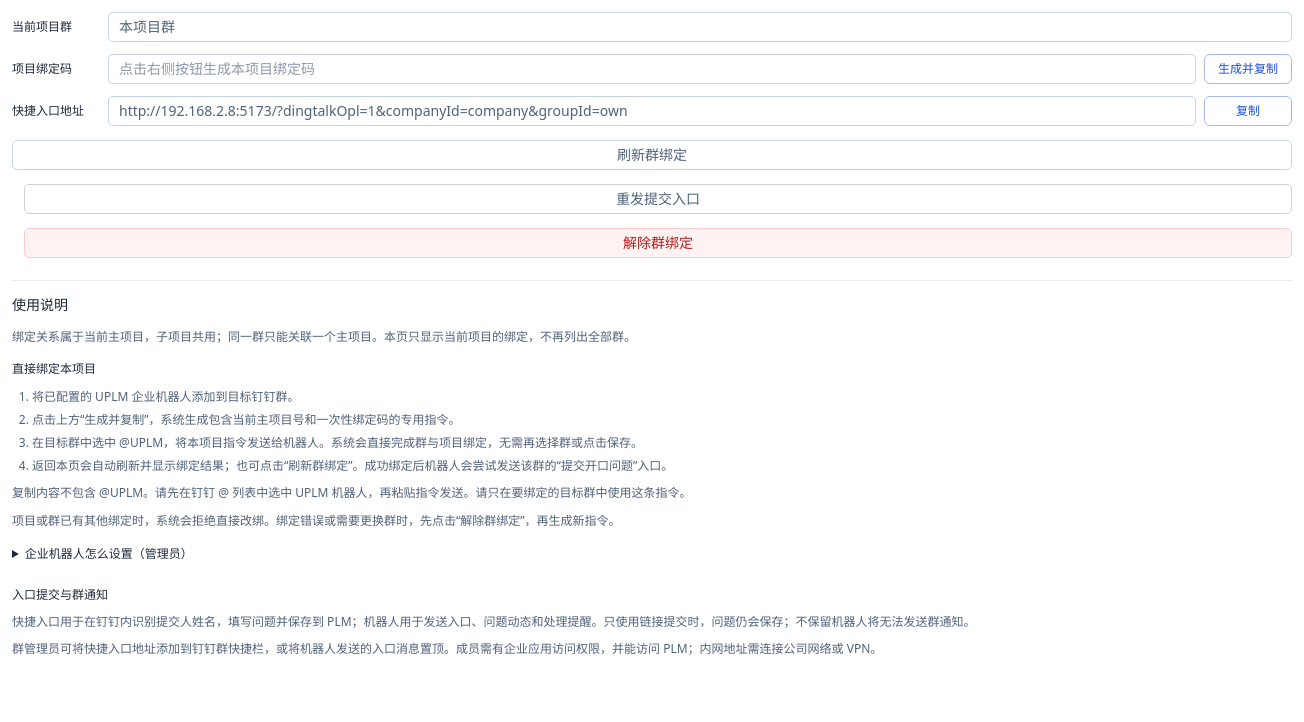
Test case: copies the full command and entry over HTTP without the Clipboard API
The width and height of the screenshot is (1304, 722).
Click the button with aria-label "生成并复制项目绑定码" at (1248, 69), box left=1204, top=54, right=1292, bottom=84
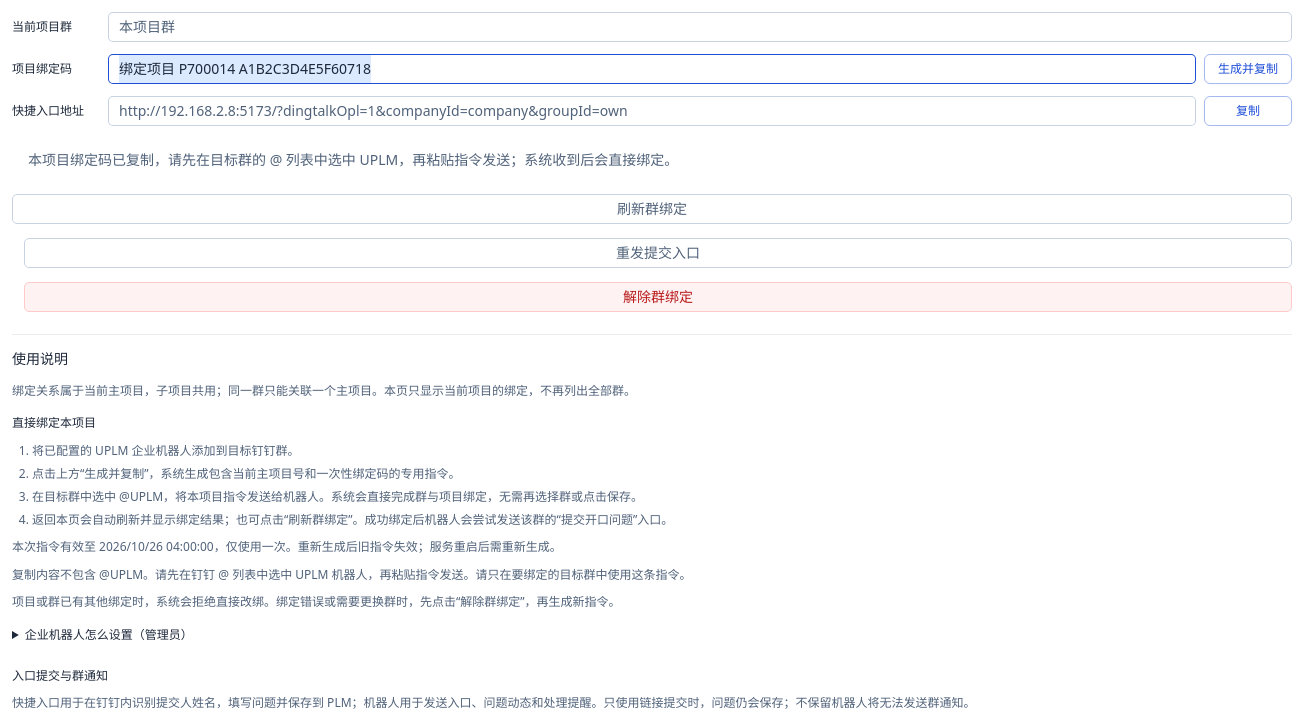
Click the button with aria-label "复制快捷入口地址" at (1248, 111), box left=1204, top=96, right=1292, bottom=126
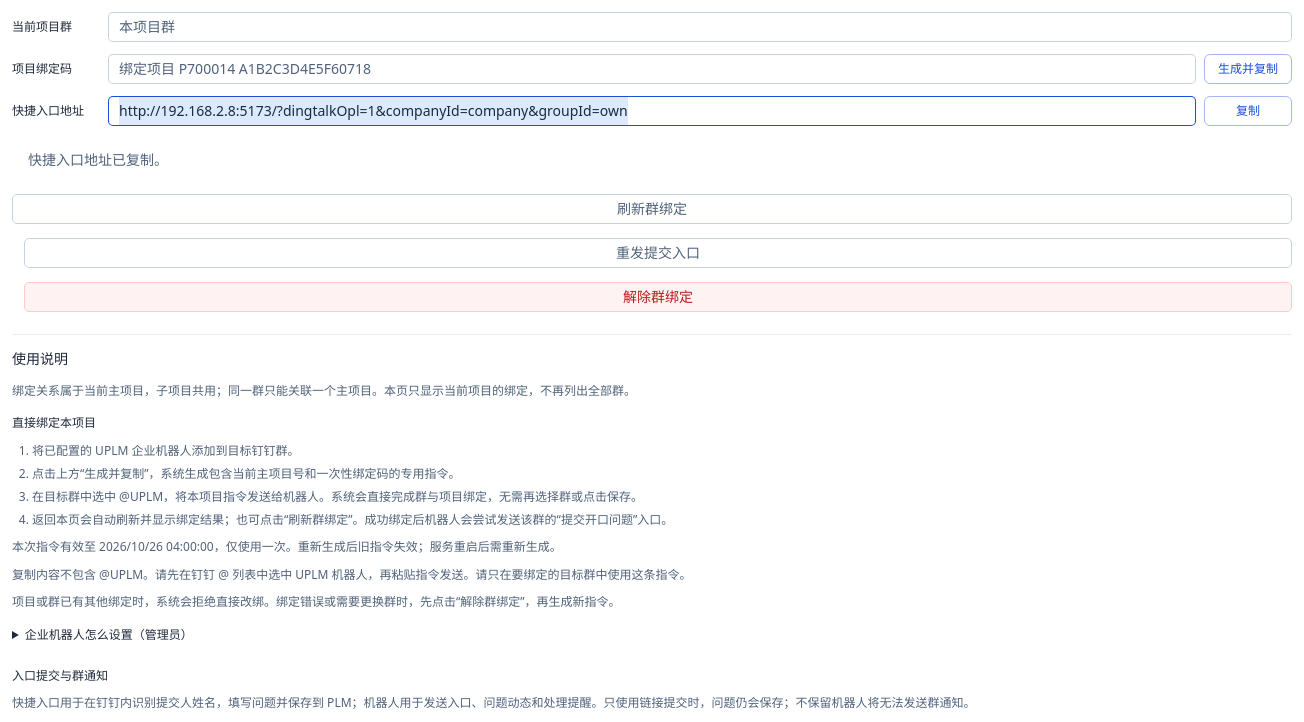
Result: the text "快捷入口地址已复制" is shown at left=28, top=150, right=168, bottom=169
